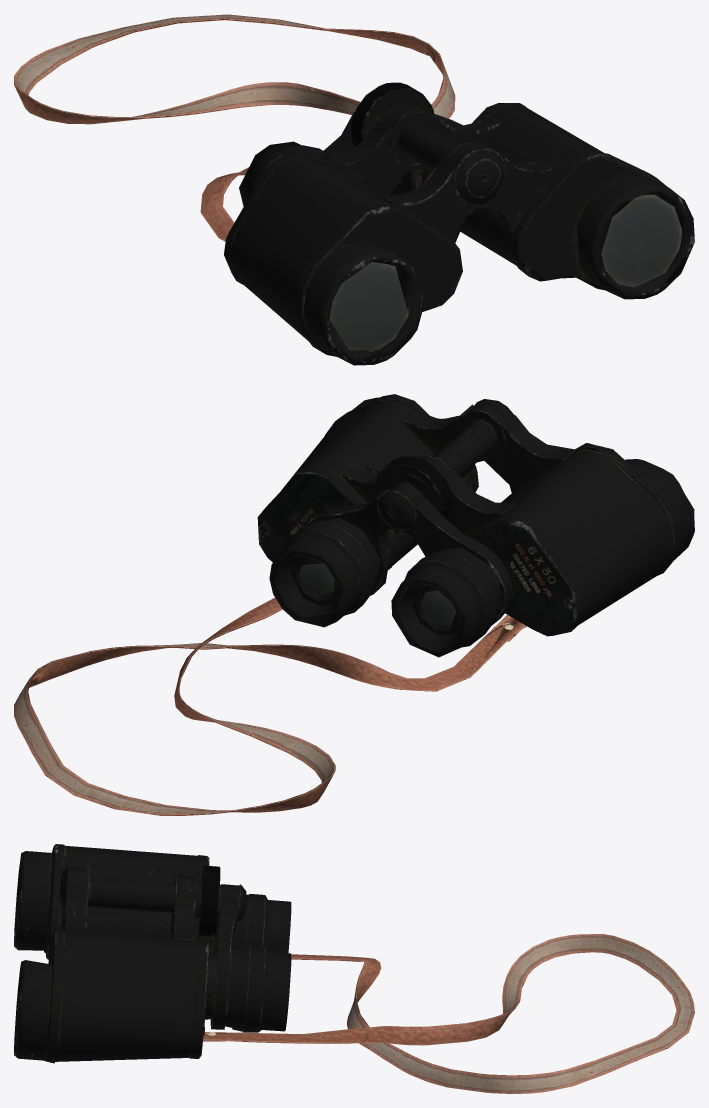
The model's file is binoculars.glb.
3 renders of one model, top to bottom at view 1: azimuth 30°, elevation 25°; view 2: azimuth 150°, elevation 25°; view 3: azimuth 270°, elevation 25°, orthographic. The views are drawn at different scales.
Visible parts, largest first — view 1: binoculars_right, binoculars_left, binoculars_strap, binoculars_column; view 2: binoculars_right, binoculars_left, binoculars_strap, binoculars_column; view 3: binoculars_left, binoculars_strap, binoculars_right, binoculars_column.
Part boxes in pixels (<box>): binoculars_right: <box>224,112,481,365</box>; binoculars_left: <box>393,103,694,299</box>; binoculars_strap: <box>14,14,455,241</box>; binoculars_column: <box>351,82,506,205</box>; binoculars_right: <box>391,415,694,657</box>; binoculars_left: <box>257,394,484,627</box>; binoculars_strap: <box>14,597,526,815</box>; binoculars_column: <box>374,399,514,532</box>; binoculars_left: <box>14,886,291,1063</box>; binoculars_strap: <box>203,934,694,1093</box>; binoculars_right: <box>14,844,291,959</box>; binoculars_column: <box>59,865,246,936</box>.
Bounding box in the file's own units: 0.1669 × 0.0656 × 0.2877.
2 materials, 2 textured.
